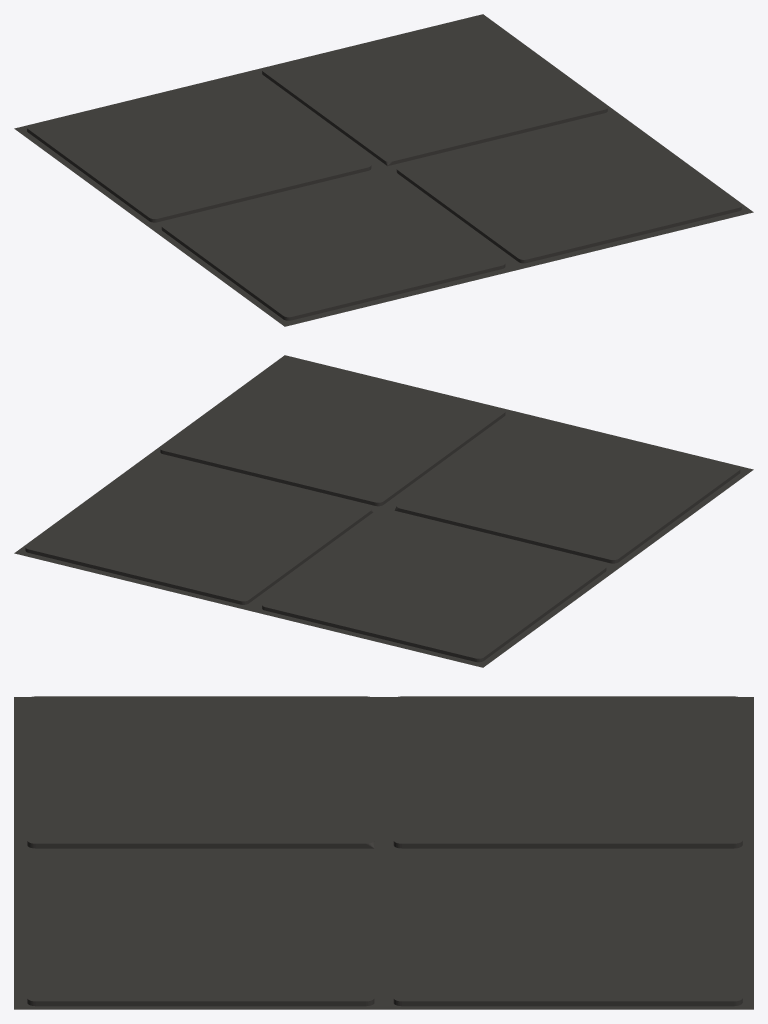
Rendered from Floor.glb.
3 views of the same model, one above another, from view 1: azimuth 30°, elevation 25°; view 2: azimuth 150°, elevation 25°; view 3: azimuth 270°, elevation 25° (orthographic). The views are drawn at different scales.
Parts seen in each view (by area): view 1: Plane; view 2: Plane; view 3: Plane.
Part boxes in pixels (bbox=[...]): Plane: bbox=[14, 14, 753, 326]; Plane: bbox=[14, 355, 753, 667]; Plane: bbox=[14, 696, 753, 1009].
Size of the model in its own units: 2 by 0.0142 by 2.
Materials: 1 (1 with a texture image).
